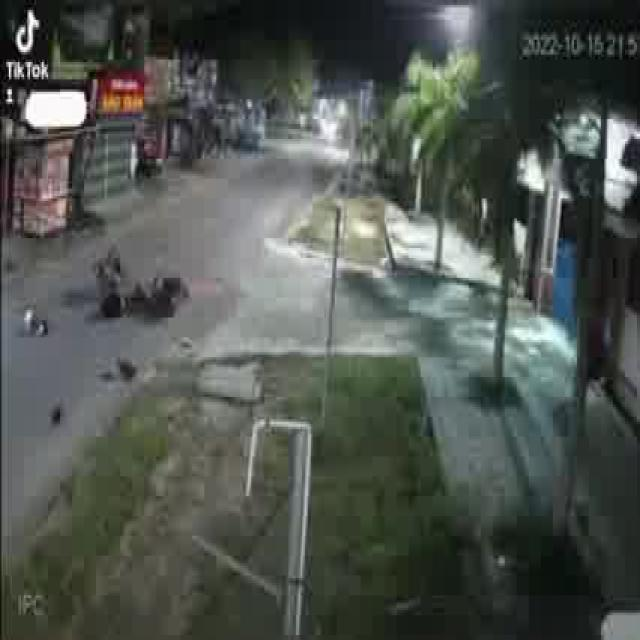multiple_accident: (19, 240, 192, 436)
